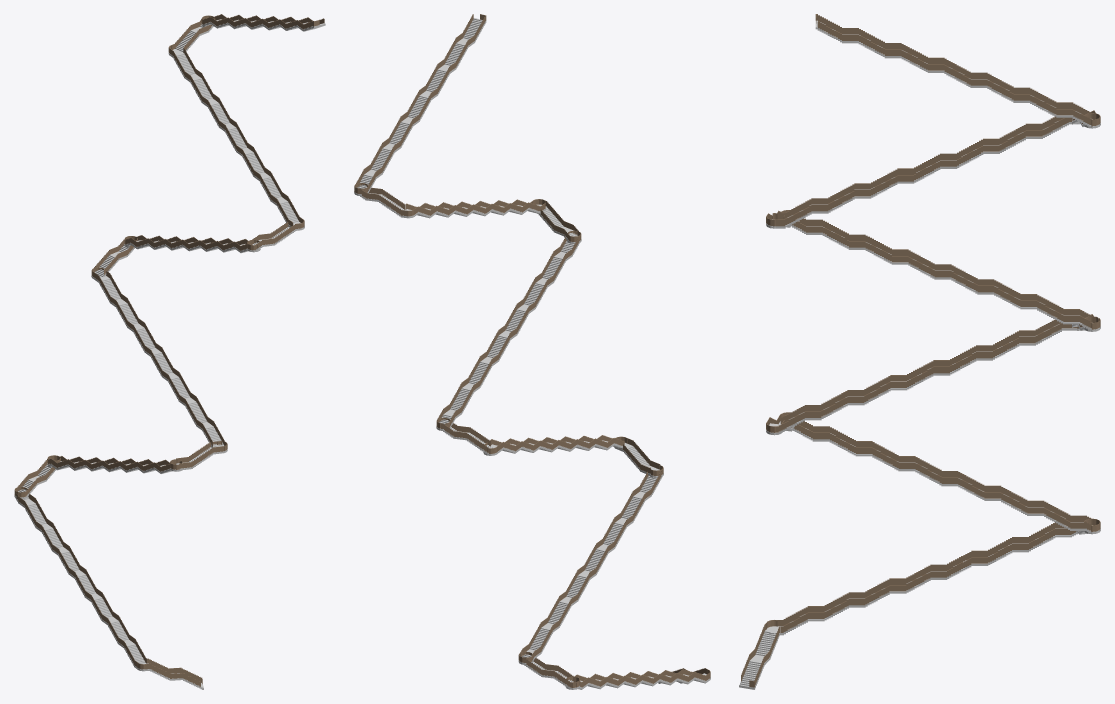
3 views of the same model, side by side, from view 1: azimuth 30°, elevation 25°; view 2: azimuth 150°, elevation 25°; view 3: azimuth 270°, elevation 25° (orthographic). The views are drawn at different scales.
Visible parts, largest first — view 1: c_terrace_path_rail_rail, c_terrace_path_stair_wood; view 2: c_terrace_path_rail_rail, c_terrace_path_stair_wood; view 3: c_terrace_path_rail_rail, c_terrace_path_stair_wood.
Boxes of the visible parts, x1,y1,x2,y2 form: c_terrace_path_rail_rail: (14,14,324,686); c_terrace_path_stair_wood: (14,19,325,689); c_terrace_path_rail_rail: (354,14,710,687); c_terrace_path_stair_wood: (354,18,710,689); c_terrace_path_rail_rail: (741,14,1100,687); c_terrace_path_stair_wood: (739,20,1100,689).
Bounding box in the file's own units: 42.5 × 121 × 52.37.
